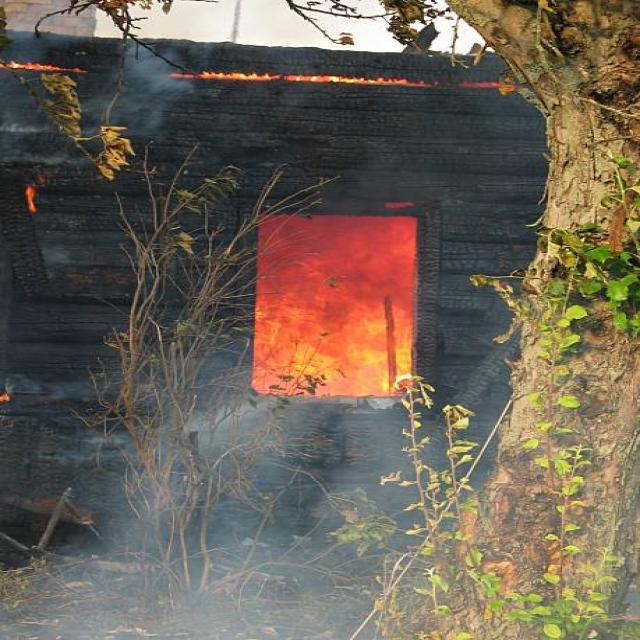Fire: (253, 213, 434, 401)
